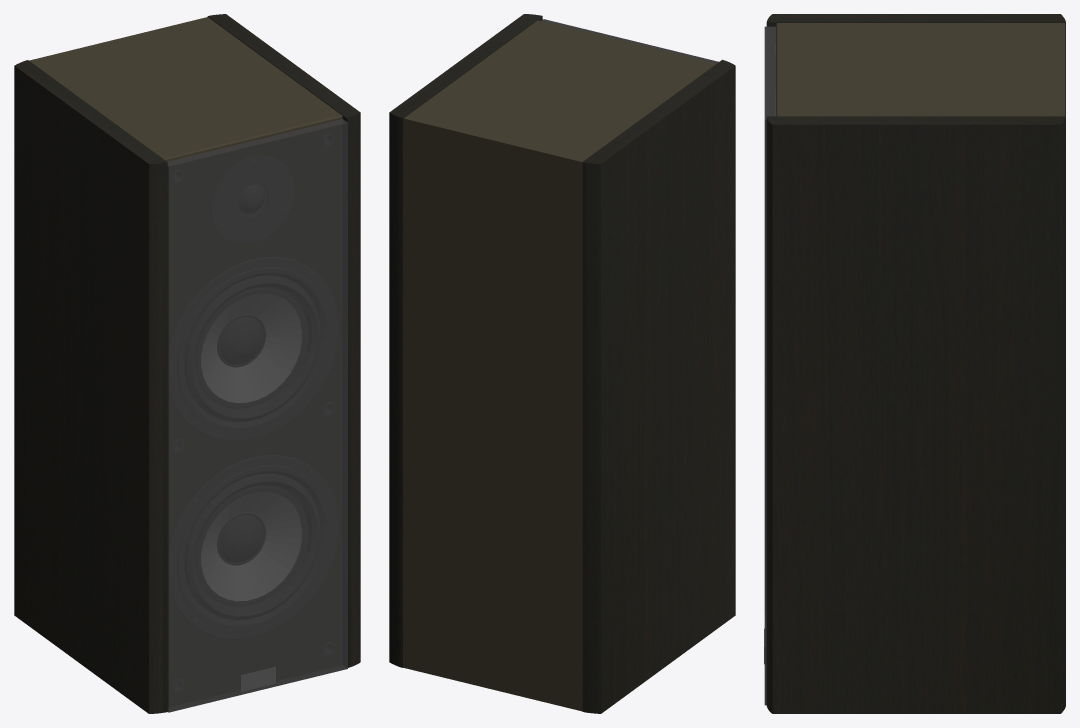
Rendered from sweethome3d-blendswap-cc-0-speaker-43.glb.
The picture shows the model from 3 angles, left to right: view 1: azimuth 30°, elevation 25°; view 2: azimuth 150°, elevation 25°; view 3: azimuth 270°, elevation 25°; orthographic projection. The views are drawn at different scales.
Visible parts, largest first — view 1: front_panel.002_Cube.006, sides.002_Cube.007, body.002_Cube.009, low_freq_speaker.003_Circle.012, high_freq_speaker.002_Circle.013, low_freq_speaker.002_Circle.009, logo.002_Cube.010; view 2: body.002_Cube.009, sides.002_Cube.007, front_panel.002_Cube.006; view 3: sides.002_Cube.007, body.002_Cube.009, front_panel.002_Cube.006.
Boxes of the visible parts, left/top/right/bottom form: front_panel.002_Cube.006: left=167, top=119, right=347, bottom=712; sides.002_Cube.007: left=14, top=14, right=360, bottom=713; body.002_Cube.009: left=29, top=17, right=342, bottom=704; low_freq_speaker.003_Circle.012: left=184, top=457, right=338, bottom=638; high_freq_speaker.002_Circle.013: left=212, top=156, right=293, bottom=243; low_freq_speaker.002_Circle.009: left=169, top=257, right=324, bottom=437; logo.002_Cube.010: left=241, top=667, right=275, bottom=691; body.002_Cube.009: left=403, top=20, right=716, bottom=711; sides.002_Cube.007: left=389, top=14, right=735, bottom=713; front_panel.002_Cube.006: left=541, top=19, right=718, bottom=63; sides.002_Cube.007: left=766, top=14, right=1065, bottom=713; body.002_Cube.009: left=776, top=23, right=1065, bottom=116; front_panel.002_Cube.006: left=764, top=26, right=775, bottom=705.
Size of the model in its own units: 22.1 by 55.13 by 25.45.
6 materials, 1 textured.
